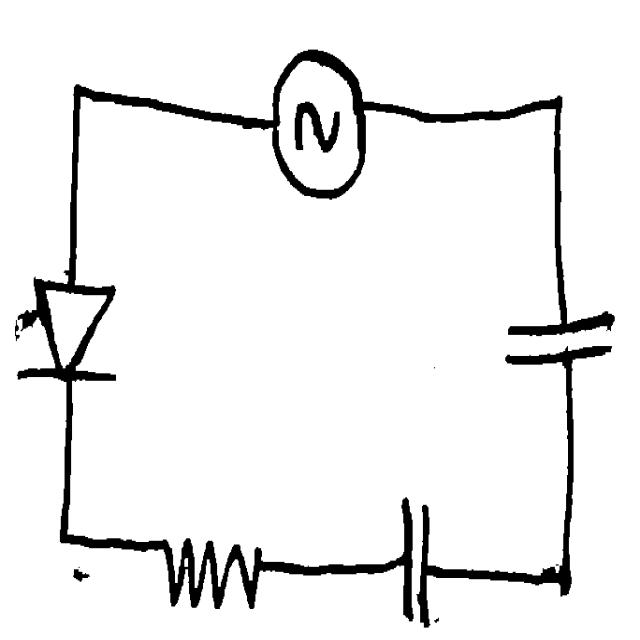ac: (259, 41, 375, 204)
capacitor: (499, 309, 622, 378), (389, 486, 437, 635)
diode: (14, 268, 125, 396)
resistor: (146, 516, 280, 616)
